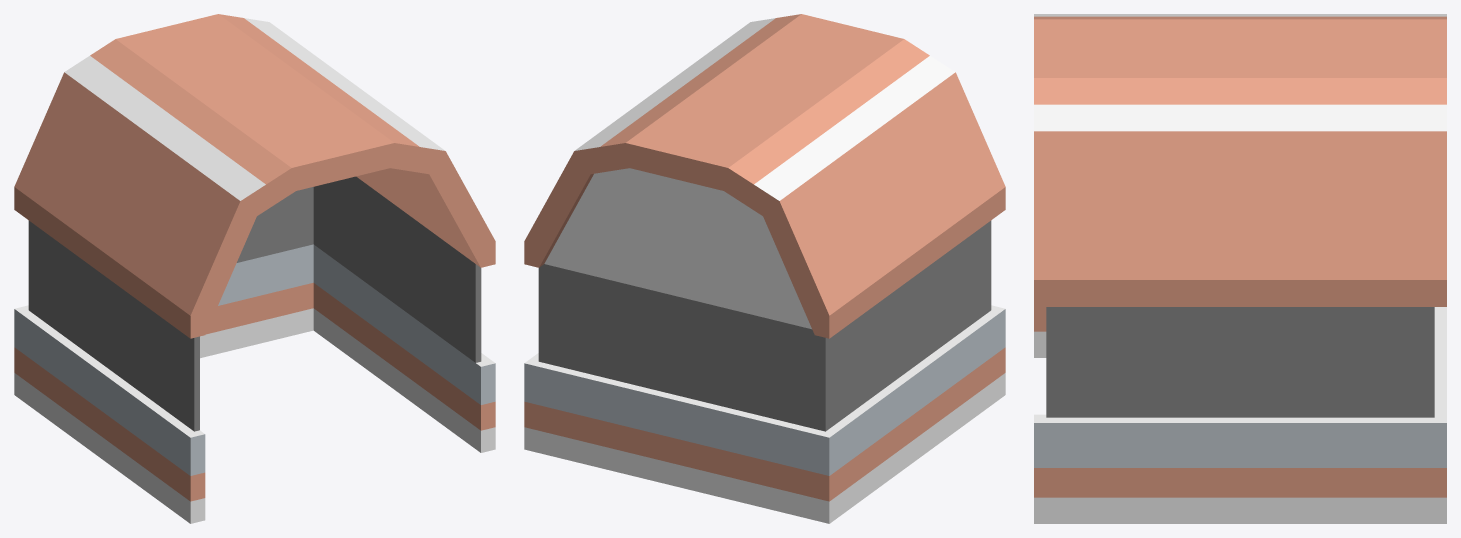
Rendered from buildingCorridorOpenEnd.fbx.
The picture shows the model from 3 angles, left to right: view 1: azimuth 30°, elevation 25°; view 2: azimuth 150°, elevation 25°; view 3: azimuth 270°, elevation 25°; orthographic projection. The views are drawn at different scales.
Parts seen in each view (by area): view 1: buildingCorridorOpenEnd; view 2: buildingCorridorOpenEnd; view 3: buildingCorridorOpenEnd.
Part boxes in pixels (x1,y1,x2,y2): buildingCorridorOpenEnd: (14, 14, 495, 523); buildingCorridorOpenEnd: (524, 14, 1005, 523); buildingCorridorOpenEnd: (1034, 14, 1446, 523).
Bounding box in the file's own units: 1000 × 1037 × 1000.
